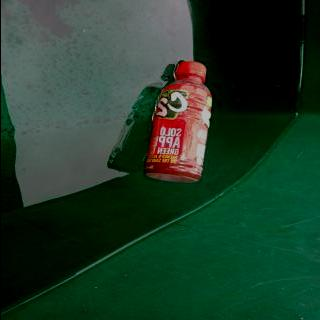bottle: (142, 61, 215, 184)
